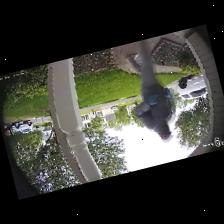person: (125, 40, 172, 141)
